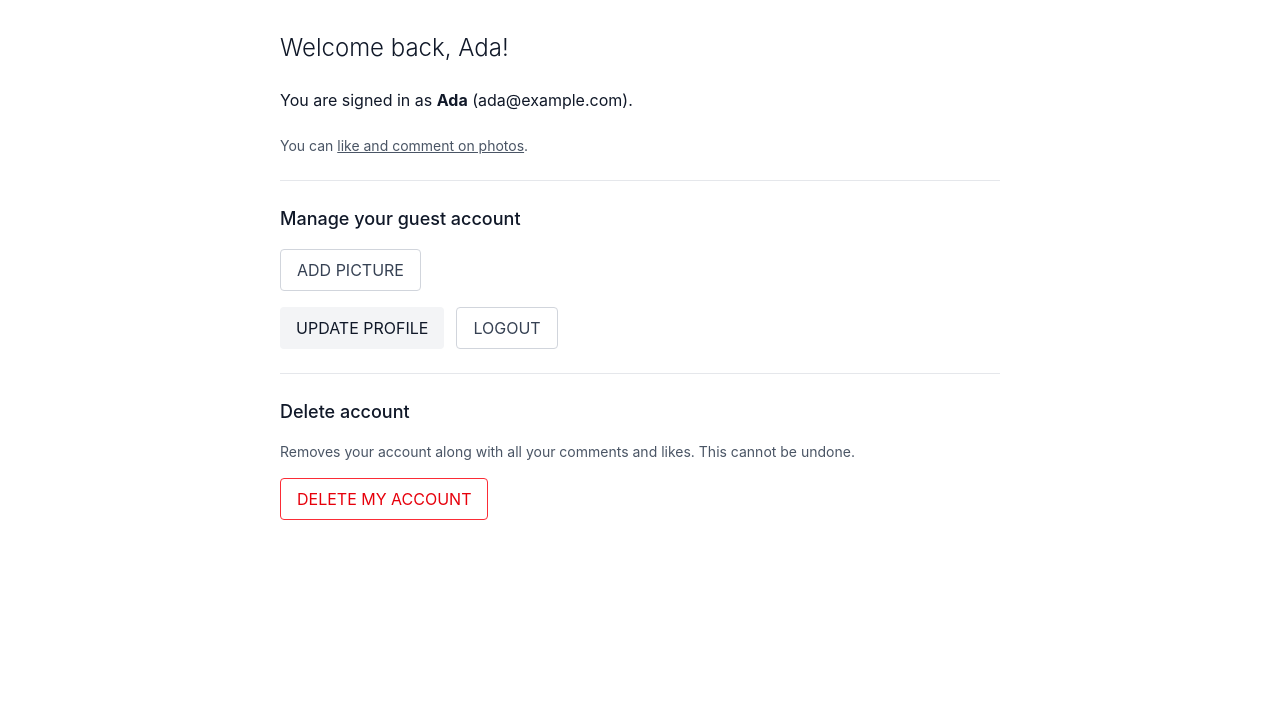
Scenario: guest page › deleting your account › deletes the account and drops back to the signed-out view
This screenshot has width=1280, height=720.
Click the button "DELETE MY ACCOUNT". click: (384,499)
box: x1=280 y1=478 x2=488 y2=520
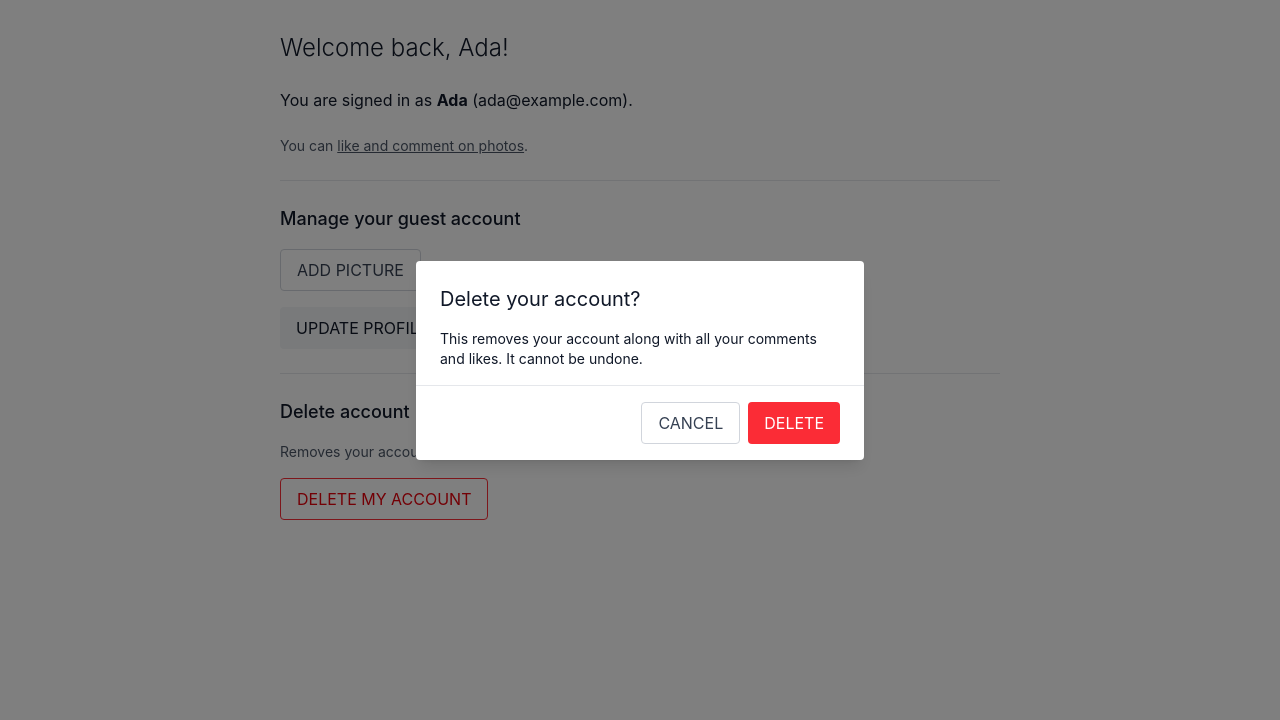
Click the button "DELETE". click: (794,422)
box: x1=748 y1=402 x2=840 y2=444
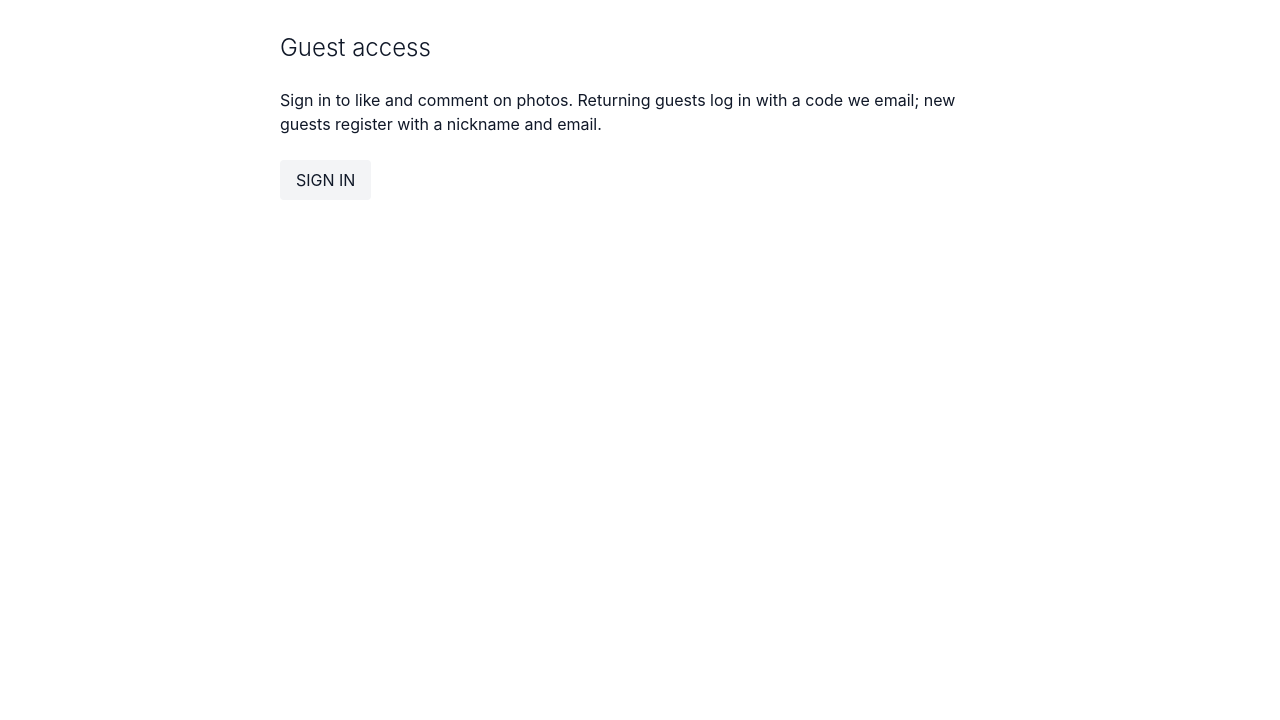
Expected: the heading "Guest access" is shown, x1=280 y1=33 x2=431 y2=62
